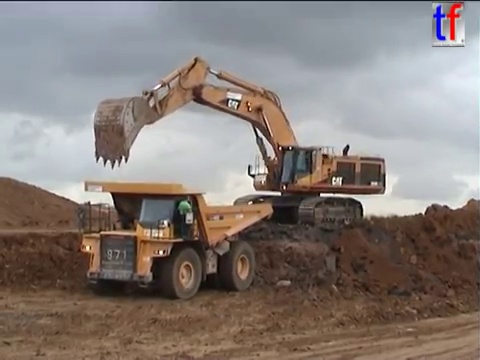excavator: (89, 53, 389, 232), (174, 193, 197, 240)
truck: (76, 178, 275, 301)
